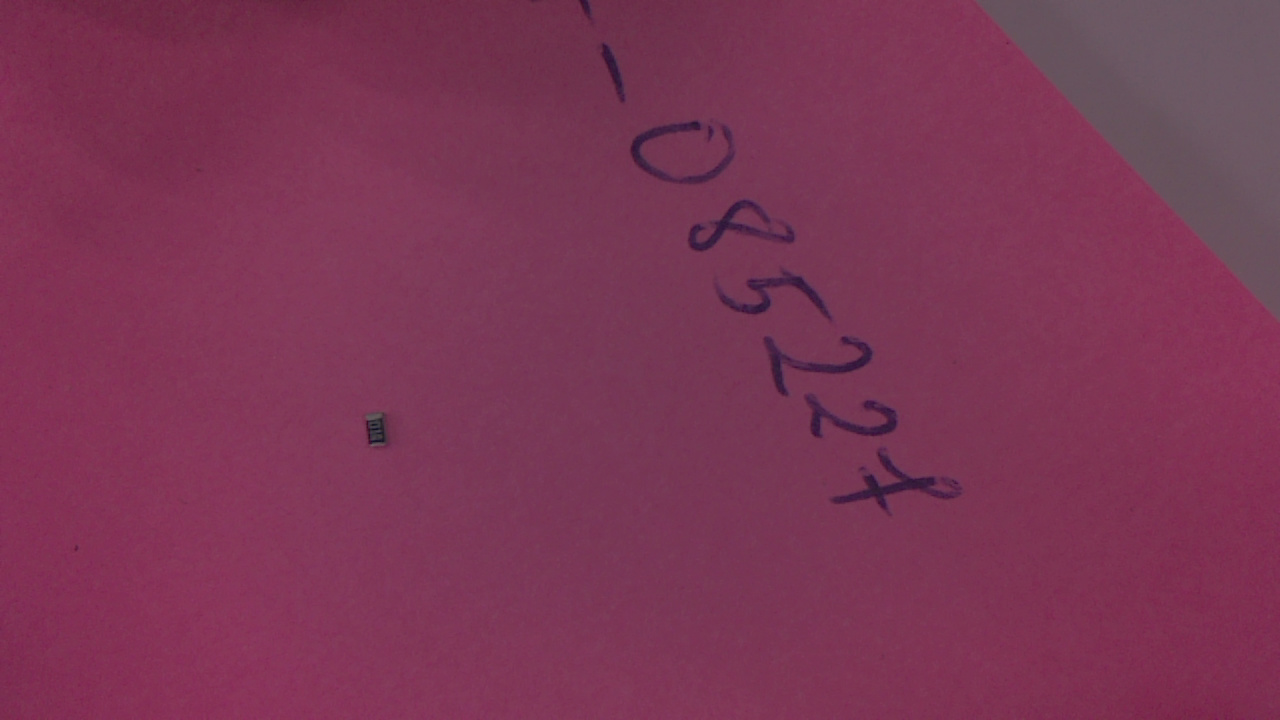Resistor: (367, 415, 397, 457)
